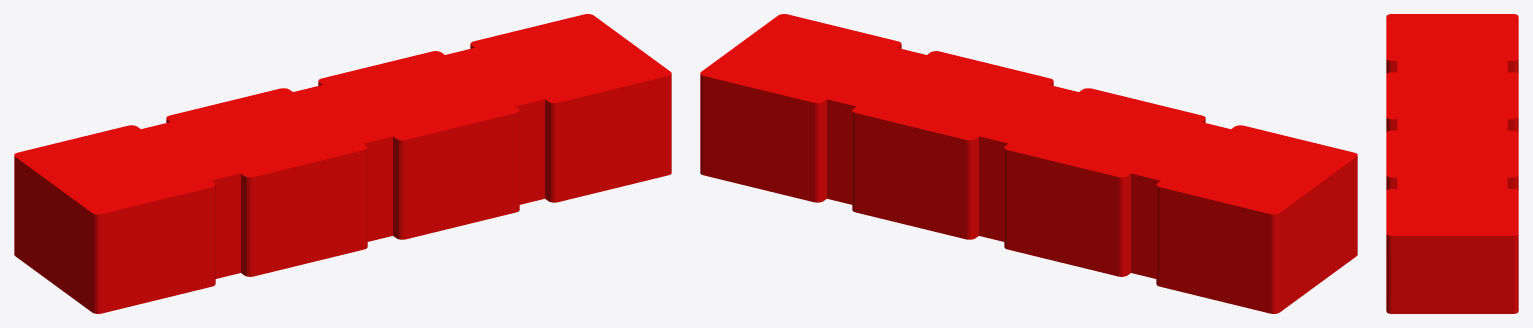
The model's file is PCA9685_v18_91.gltf.
The picture shows the model from 3 angles, left to right: view 1: azimuth 30°, elevation 25°; view 2: azimuth 150°, elevation 25°; view 3: azimuth 270°, elevation 25°; orthographic projection. The views are drawn at different scales.
Visible parts, largest first — view 1: mesh5395, mesh5361, mesh5367, mesh5355, mesh5373, mesh5353, mesh5358, mesh5364, mesh5370, mesh5354, mesh5366, mesh5360 (+1 smaller); view 2: mesh5395, mesh5397, mesh5383, mesh5390, mesh5377, mesh5353, mesh5393, mesh5380, mesh5386, mesh5384, mesh5389, mesh5398 (+1 smaller); view 3: mesh5395, mesh5375, mesh5374, mesh5376.
Part boxes in pixels (left/top/right/bottom): mesh5395: left=14, top=14, right=671, bottom=214; mesh5361: left=253, top=150, right=364, bottom=276; mesh5367: left=405, top=113, right=516, bottom=239; mesh5355: left=101, top=187, right=211, bottom=313; mesh5373: left=558, top=76, right=668, bottom=201; mesh5353: left=15, top=157, right=92, bottom=311; mesh5358: left=211, top=173, right=240, bottom=278; mesh5364: left=363, top=136, right=392, bottom=241; mesh5370: left=515, top=99, right=544, bottom=204; mesh5354: left=92, top=213, right=101, bottom=313; mesh5366: left=396, top=139, right=405, bottom=239; mesh5360: left=244, top=176, right=253, bottom=276; mesh5395: left=700, top=14, right=1357, bottom=214; mesh5397: left=1007, top=150, right=1118, bottom=276; mesh5383: left=855, top=113, right=966, bottom=239; mesh5390: left=1160, top=187, right=1270, bottom=313; mesh5377: left=703, top=76, right=813, bottom=201; mesh5353: left=1279, top=157, right=1356, bottom=311; mesh5393: left=1131, top=173, right=1160, bottom=278; mesh5380: left=827, top=99, right=856, bottom=204; mesh5386: left=979, top=136, right=1008, bottom=241; mesh5384: left=966, top=139, right=975, bottom=239; mesh5389: left=1270, top=213, right=1279, bottom=313; mesh5398: left=1118, top=176, right=1127, bottom=276; mesh5395: left=1386, top=14, right=1518, bottom=235; mesh5375: left=1392, top=236, right=1512, bottom=313; mesh5374: left=1386, top=234, right=1391, bottom=313; mesh5376: left=1513, top=234, right=1518, bottom=313.
Size of the model in its own units: 0.00974 by 0.0016 by 0.00245.
